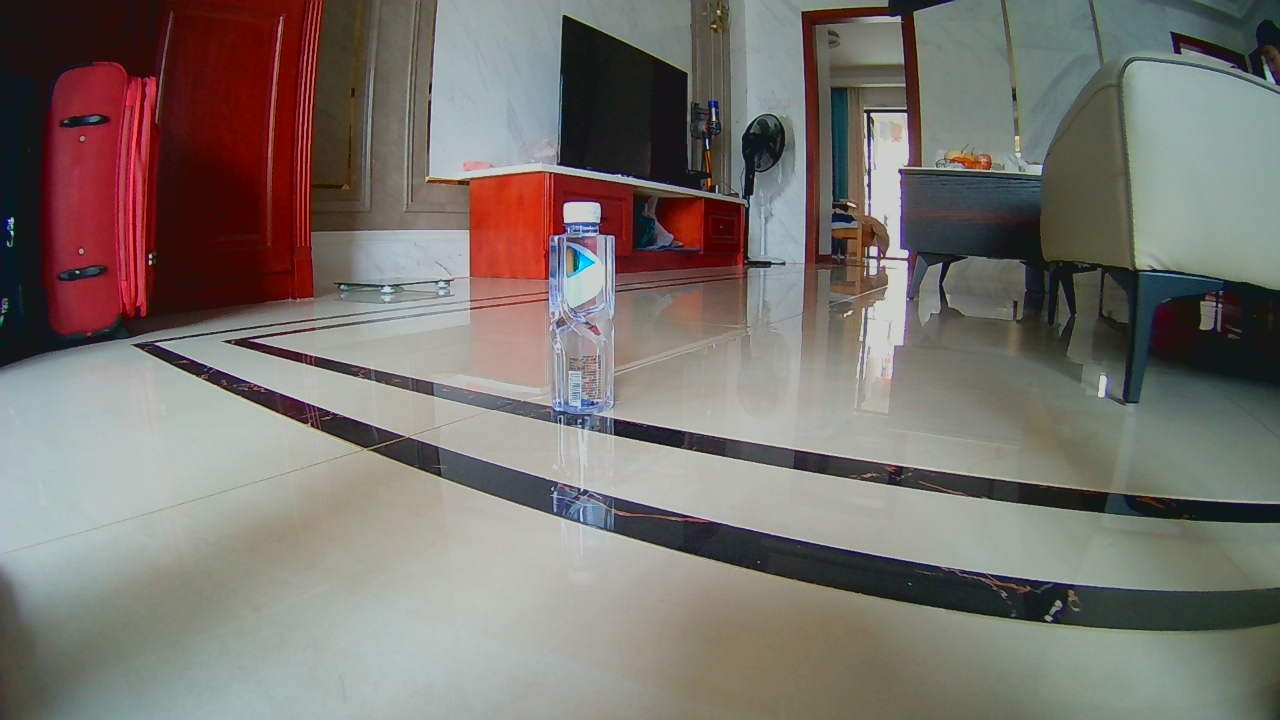water: (551, 205, 615, 416)
